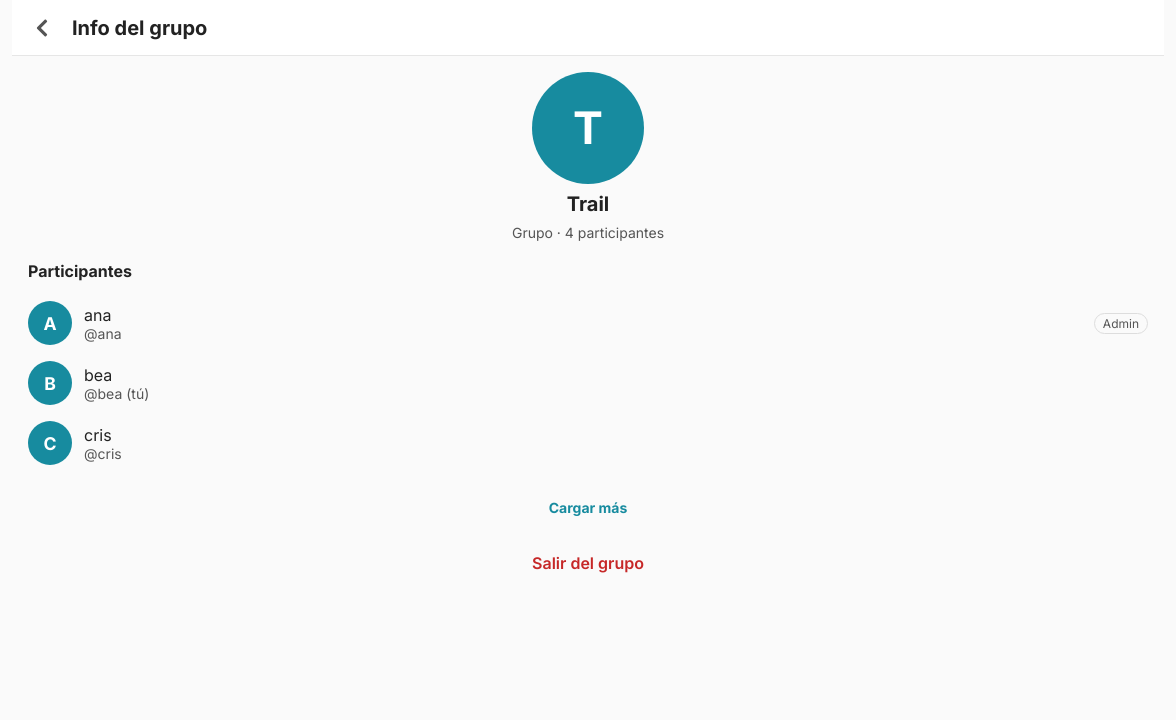
Test case: GroupInfoPanel (T12, T29r) › loads more participants on demand
Click the button "Cargar más": coordinates (588, 507) [28,485,1148,529]
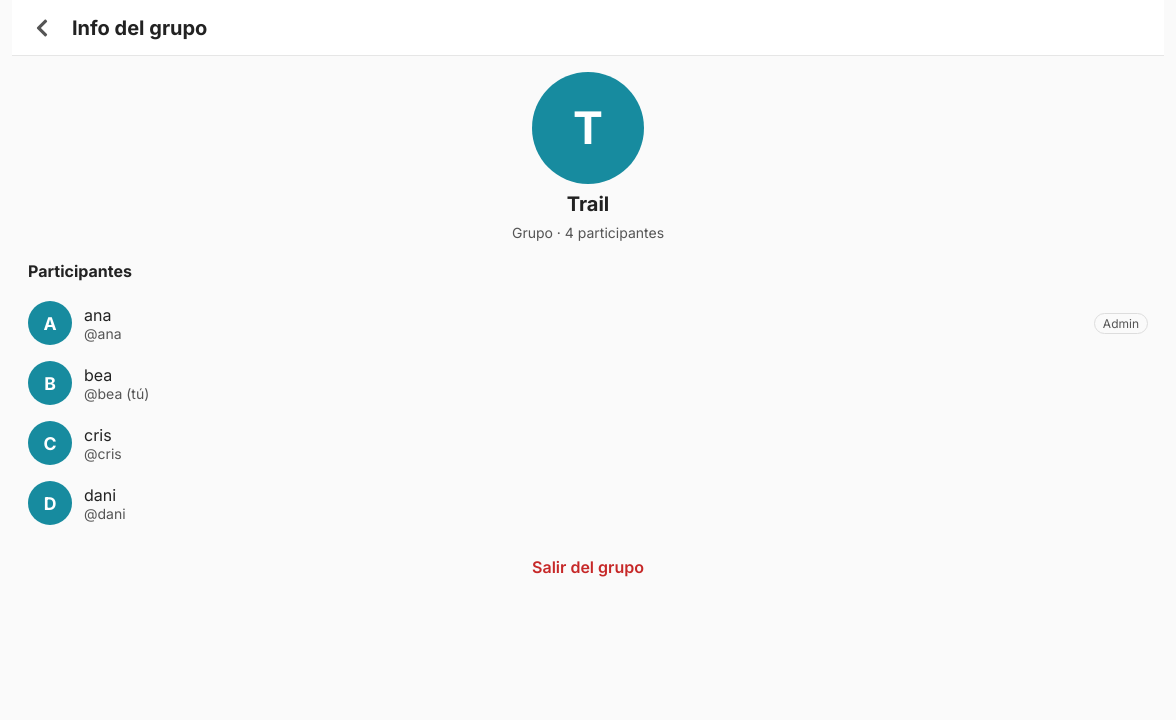
Check: the text "@dani" is shown, box [84,504,126,522]
